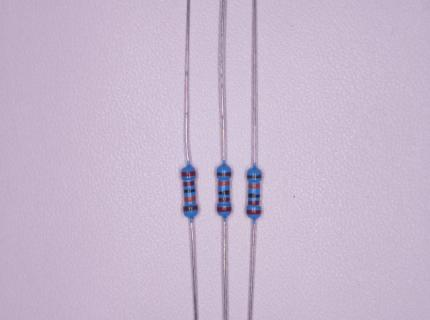Black band: (248, 193, 260, 198), (218, 190, 230, 195), (184, 189, 195, 194)
Brown band: (183, 205, 198, 212), (247, 174, 262, 179), (217, 172, 232, 177)
Orange band: (184, 196, 196, 202), (218, 181, 230, 186), (248, 184, 260, 188)
Red band: (181, 171, 196, 177), (217, 207, 232, 212), (183, 181, 195, 187), (247, 210, 261, 215), (218, 198, 230, 202), (248, 201, 260, 205)
